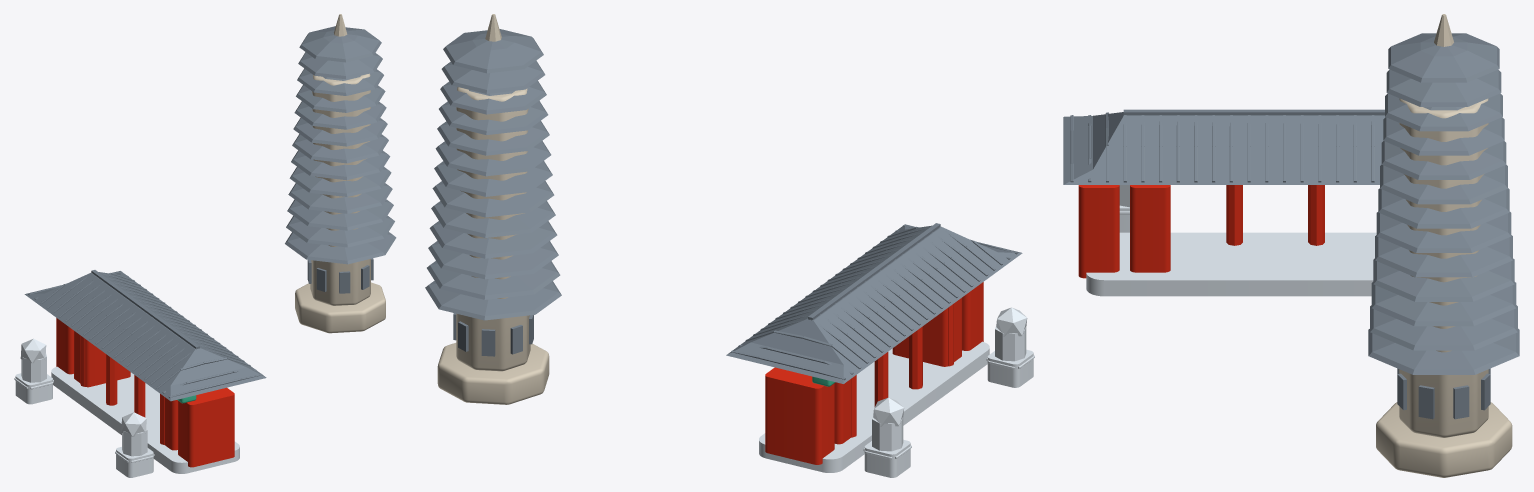
3 views of the same model, side by side, from view 1: azimuth 30°, elevation 25°; view 2: azimuth 150°, elevation 25°; view 3: azimuth 270°, elevation 25° (orthographic). The views are drawn at different scales.
Visible parts, largest first — view 1: WestGate_roof, WestGate_roof__RoofTileRelief, WestGate_base, WestGate_sidewall0.69, Boya_octagonal_body, Boya_base, Boya_eave_13, Boya_eave_1, Boya_eave_2, Boya_eave_3, Boya_eave_4, Boya_eave_5 (+19 smaller); view 2: WestGate_roof, WestGate_roof__RoofTileRelief, WestGate_base, WestGate_sidewall-0.69, Boya_octagonal_body, Boya_base, Boya_eave_13, Boya_eave_1, Boya_eave_2, Boya_eave_3, Boya_eave_4, Boya_eave_5 (+19 smaller); view 3: WestGate_roof, WestGate_base, Boya_octagonal_body, Boya_base, Boya_eave_13, WestGate_roof__RoofTileRelief, Boya_eave_1, WestGate_sidewall0.69, Boya_eave_2, Boya_eave_3, WestGate_sidewall0.49, Boya_eave_4 (+13 smaller).
Boxes of the visible parts, x1=… form: WestGate_roof: x1=24, y1=271, x2=266, y2=401; WestGate_roof__RoofTileRelief: x1=28, y1=271, x2=262, y2=397; WestGate_base: x1=51, y1=366, x2=239, y2=473; WestGate_sidewall0.69: x1=178, y1=387, x2=234, y2=467; Boya_octagonal_body: x1=310, y1=73, x2=370, y2=305; Boya_base: x1=295, y1=282, x2=385, y2=333; Boya_eave_13: x1=299, y1=26, x2=381, y2=62; Boya_eave_1: x1=285, y1=232, x2=396, y2=264; Boya_eave_2: x1=286, y1=215, x2=394, y2=247; Boya_eave_3: x1=287, y1=199, x2=393, y2=230; Boya_eave_4: x1=288, y1=183, x2=392, y2=213; Boya_eave_5: x1=289, y1=167, x2=391, y2=196; WestGate_roof: x1=726, y1=224, x2=1022, y2=383; WestGate_roof__RoofTileRelief: x1=731, y1=225, x2=1017, y2=380; WestGate_base: x1=759, y1=341, x2=989, y2=472; WestGate_sidewall-0.69: x1=765, y1=367, x2=834, y2=464; Boya_octagonal_body: x1=456, y1=87, x2=530, y2=371; Boya_base: x1=437, y1=343, x2=549, y2=404; Boya_eave_13: x1=443, y1=29, x2=543, y2=73; Boya_eave_1: x1=425, y1=281, x2=561, y2=320; Boya_eave_2: x1=427, y1=261, x2=560, y2=299; Boya_eave_3: x1=428, y1=241, x2=558, y2=279; Boya_eave_4: x1=429, y1=221, x2=557, y2=258; Boya_eave_5: x1=431, y1=201, x2=555, y2=237; WestGate_roof: x1=1063, y1=112, x2=1385, y2=184; WestGate_base: x1=1086, y1=232, x2=1376, y2=296; Boya_octagonal_body: x1=1399, y1=98, x2=1488, y2=437; Boya_base: x1=1376, y1=402, x2=1512, y2=477; Boya_eave_13: x1=1388, y1=33, x2=1499, y2=82; WestGate_roof__RoofTileRelief: x1=1070, y1=112, x2=1374, y2=182; Boya_eave_1: x1=1368, y1=328, x2=1519, y2=374; WestGate_sidewall0.69: x1=1078, y1=185, x2=1119, y2=278; Boya_eave_2: x1=1370, y1=305, x2=1517, y2=350; Boya_eave_3: x1=1371, y1=282, x2=1516, y2=326; WestGate_sidewall0.49: x1=1130, y1=185, x2=1170, y2=272; Boya_eave_4: x1=1373, y1=258, x2=1514, y2=301.
Bounding box in the file's own units: 3.52 × 2.71 × 2.57.
